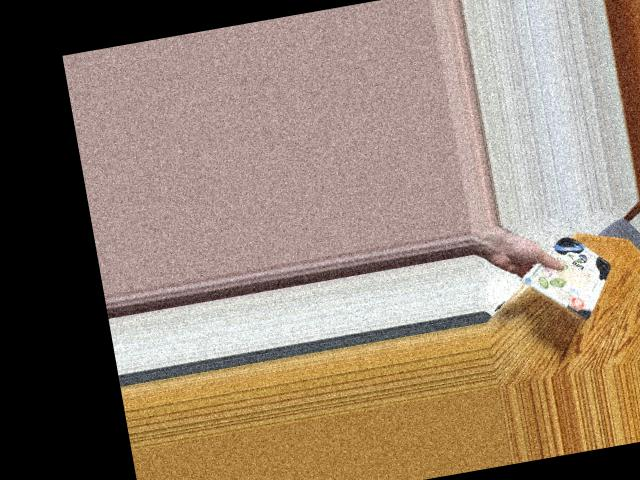cheese: (525, 241, 615, 315)
